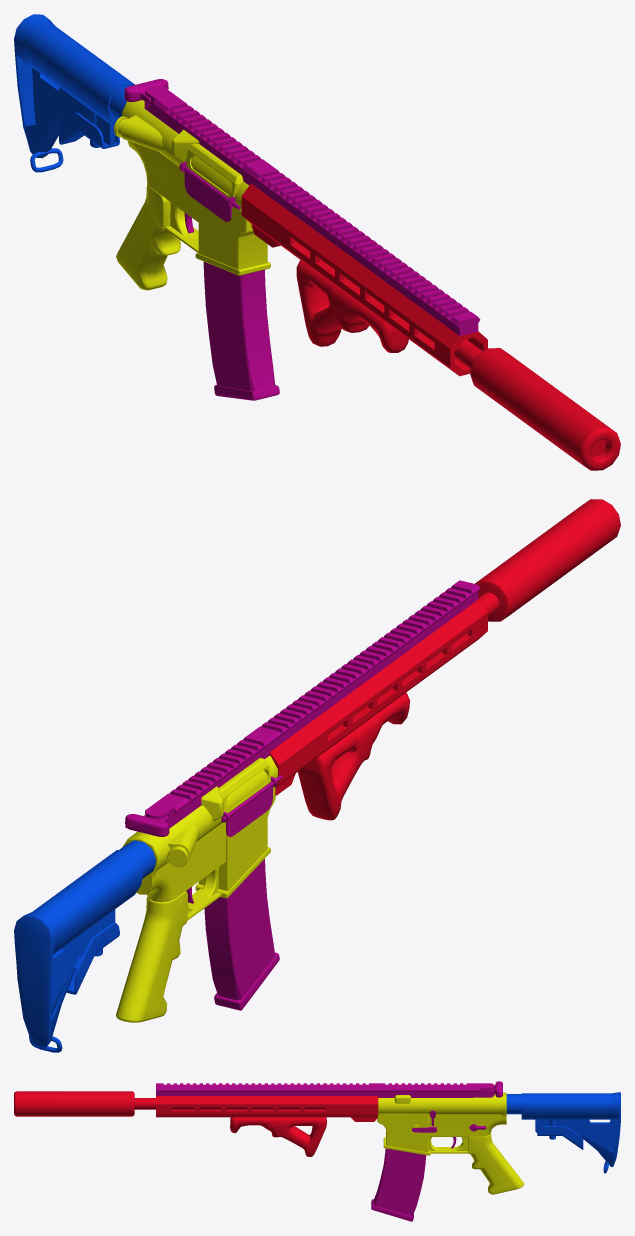
Rendered from m4_uved.fbx.
3 renders of one model, top to bottom at view 1: azimuth 30°, elevation 25°; view 2: azimuth 150°, elevation 25°; view 3: azimuth 270°, elevation 25°, orthographic. The views are drawn at different scales.
Visible parts, largest first — view 1: rail, barrelShell, magazine, pCylinder1, stockMain, foregrip, recieverMain, grip, magwell, stockLower, plungerThingy, stockBottom (+3 smaller); view 2: rail, stockMain, barrelShell, magazine, pCylinder1, recieverMain, grip, foregrip, magwell, stockLower, stockBottom, ejectorFlap (+4 smaller); view 3: barrelShell, rail, recieverMain, stockMain, pCylinder1, magazine, foregrip, grip, magwell, stockLower, barrel, stockBottom (+2 smaller).
Boxes of the visible parts, left/top/right/bottom form: rail: left=144, top=85, right=480, bottom=335; barrelShell: left=241, top=183, right=487, bottom=376; magazine: left=203, top=261, right=279, bottom=400; pCylinder1: left=470, top=348, right=620, bottom=470; stockMain: left=14, top=14, right=134, bottom=158; foregrip: left=296, top=260, right=408, bottom=352; recieverMain: left=122, top=100, right=248, bottom=222; grip: left=116, top=184, right=180, bottom=290; magwell: left=195, top=202, right=270, bottom=275; stockLower: left=32, top=67, right=115, bottom=144; plungerThingy: left=114, top=115, right=163, bottom=152; stockBottom: left=59, top=112, right=119, bottom=148; rail: left=145, top=580, right=480, bottom=828; stockMain: left=14, top=849, right=143, bottom=1047; barrelShell: left=269, top=599, right=487, bottom=795; magazine: left=204, top=859, right=279, bottom=1010; pCylinder1: left=475, top=499, right=620, bottom=621; recieverMain: left=123, top=756, right=277, bottom=902; grip: left=116, top=891, right=188, bottom=1022; foregrip: left=298, top=693, right=409, bottom=820; magwell: left=195, top=787, right=275, bottom=897; stockLower: left=51, top=909, right=115, bottom=1006; stockBottom: left=66, top=923, right=119, bottom=994; ejectorFlap: left=226, top=785, right=272, bottom=836; barrelShell: left=156, top=1096, right=378, bottom=1121; rail: left=156, top=1083, right=494, bottom=1097; recieverMain: left=378, top=1092, right=506, bottom=1136; stockMain: left=521, top=1092, right=620, bottom=1166; pCylinder1: left=14, top=1091, right=134, bottom=1116; magazine: left=371, top=1148, right=426, bottom=1221; foregrip: left=230, top=1117, right=326, bottom=1156; grip: left=468, top=1133, right=524, bottom=1194; magwell: left=377, top=1113, right=430, bottom=1155; stockLower: left=535, top=1119, right=618, bottom=1151; barrel: left=134, top=1098, right=325, bottom=1109; stockBottom: left=537, top=1126, right=583, bottom=1149.
Bounding box in the file's own units: 1.4 × 5.75 × 23.8.
